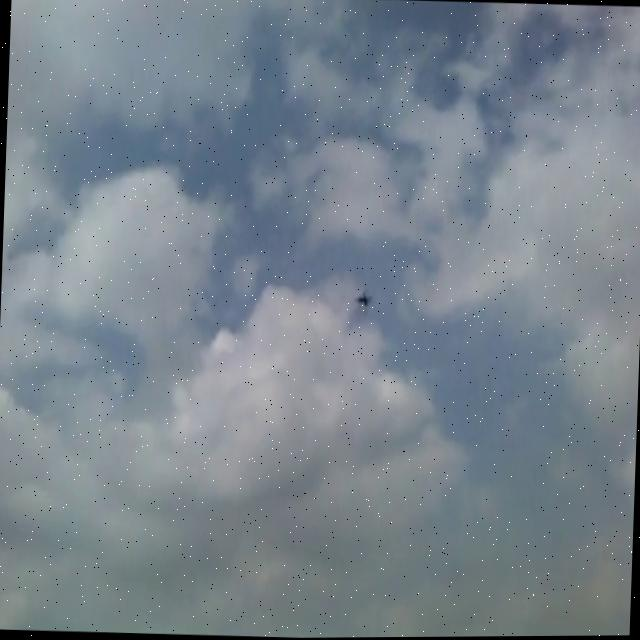drone: (351, 280, 375, 315)
